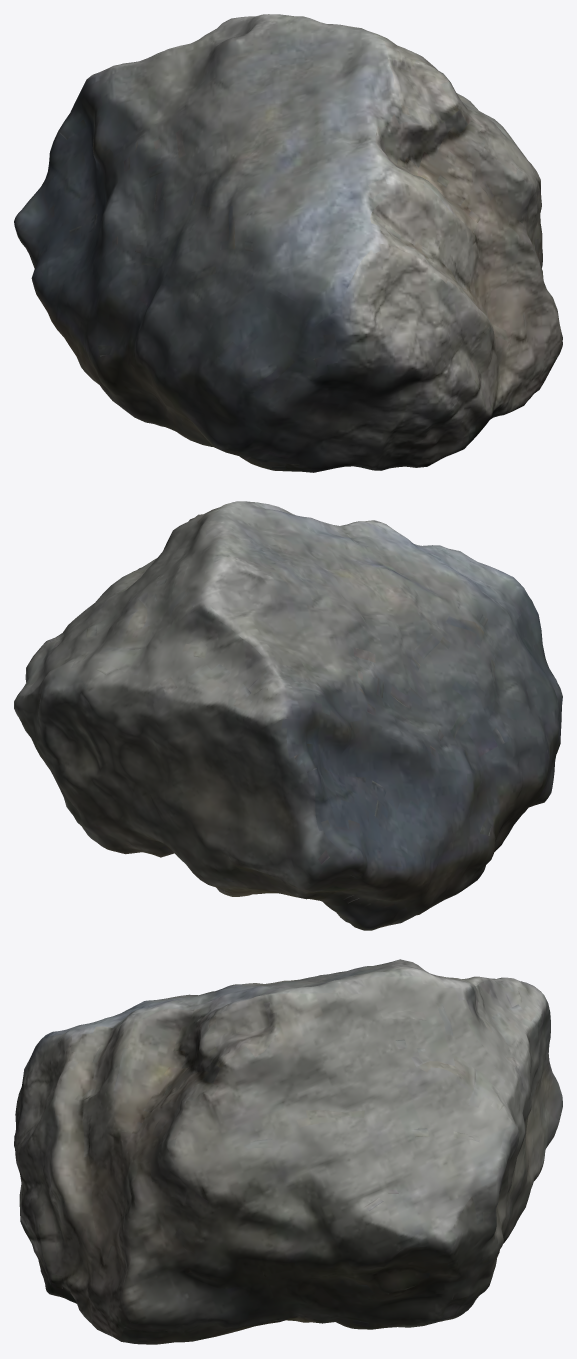
The picture shows the model from 3 angles, top to bottom: view 1: azimuth 30°, elevation 25°; view 2: azimuth 150°, elevation 25°; view 3: azimuth 270°, elevation 25°; orthographic projection. The views are drawn at different scales.
Size of the model in its own units: 1.83 by 1.38 by 1.99.
Materials: 1 (1 with a texture image).
